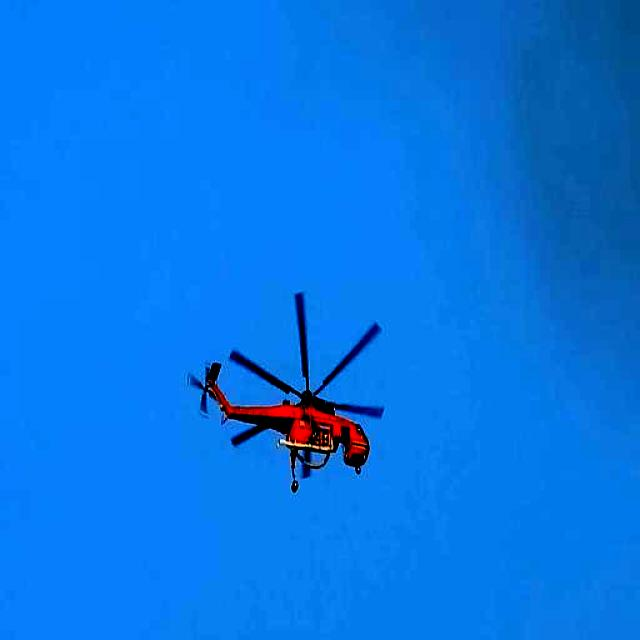drone: (186, 288, 386, 496)
